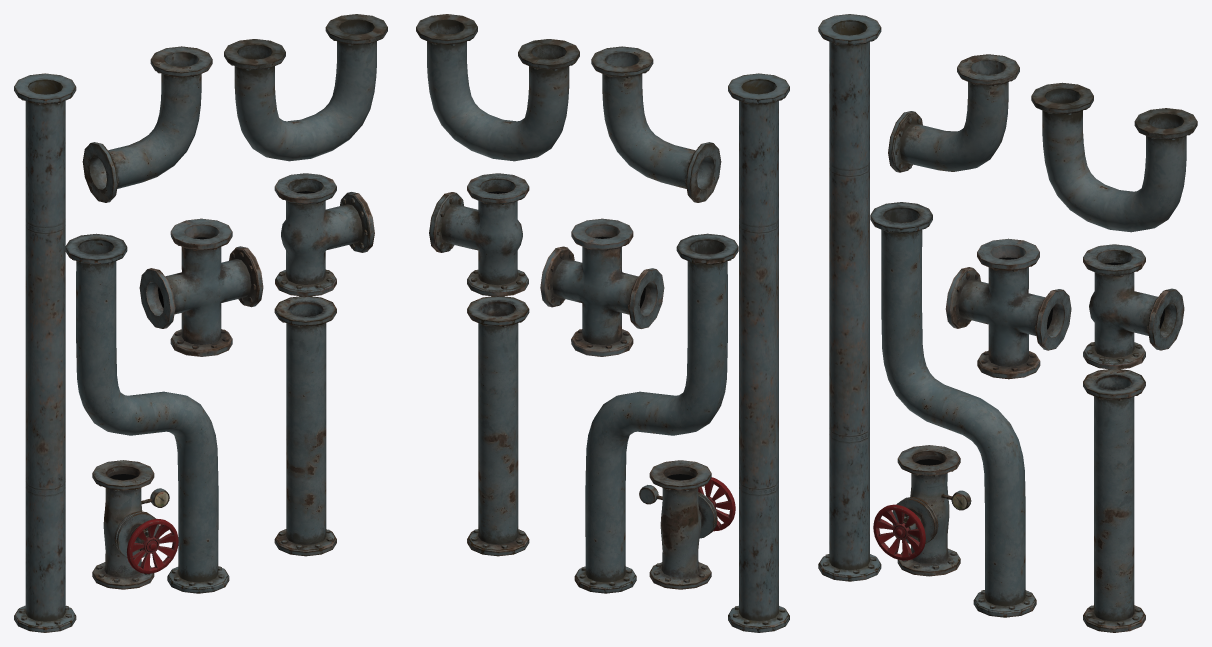
Rendered from modular_industrial_pipes_01.glb.
3 views of the same model, side by side, from view 1: azimuth 30°, elevation 25°; view 2: azimuth 150°, elevation 25°; view 3: azimuth 330°, elevation 25° (orthographic).
Visible parts, largest first — view 1: modular_industrial_pipes_01_pipe02, modular_industrial_pipes_01_pipe03, modular_industrial_pipes_01_pipe05, modular_industrial_pipes_01_pipe01, modular_industrial_pipes_01_pipe07, modular_industrial_pipes_01_pipe04, modular_industrial_pipes_01_pipe06, modular_industrial_pipes_01_pipe08; view 2: modular_industrial_pipes_01_pipe02, modular_industrial_pipes_01_pipe03, modular_industrial_pipes_01_pipe05, modular_industrial_pipes_01_pipe01, modular_industrial_pipes_01_pipe07, modular_industrial_pipes_01_pipe04, modular_industrial_pipes_01_pipe06, modular_industrial_pipes_01_pipe08; view 3: modular_industrial_pipes_01_pipe02, modular_industrial_pipes_01_pipe03, modular_industrial_pipes_01_pipe05, modular_industrial_pipes_01_pipe01, modular_industrial_pipes_01_pipe07, modular_industrial_pipes_01_pipe06, modular_industrial_pipes_01_pipe04, modular_industrial_pipes_01_pipe08.
Part boxes in pixels (x1,y1,x2,y2): modular_industrial_pipes_01_pipe02: (14,73,76,632); modular_industrial_pipes_01_pipe03: (65,233,229,593); modular_industrial_pipes_01_pipe05: (224,14,387,161); modular_industrial_pipes_01_pipe01: (274,296,336,556); modular_industrial_pipes_01_pipe07: (139,218,263,356); modular_industrial_pipes_01_pipe04: (82,46,212,202); modular_industrial_pipes_01_pipe06: (274,173,374,296); modular_industrial_pipes_01_pipe08: (92,460,178,589); modular_industrial_pipes_01_pipe02: (728,73,789,632); modular_industrial_pipes_01_pipe03: (574,233,738,593); modular_industrial_pipes_01_pipe05: (416,14,579,161); modular_industrial_pipes_01_pipe01: (467,296,529,556); modular_industrial_pipes_01_pipe07: (540,218,664,356); modular_industrial_pipes_01_pipe04: (591,46,721,202); modular_industrial_pipes_01_pipe06: (429,173,529,296); modular_industrial_pipes_01_pipe08: (639,460,735,589); modular_industrial_pipes_01_pipe02: (818,14,881,581); modular_industrial_pipes_01_pipe03: (870,202,1036,617); modular_industrial_pipes_01_pipe05: (1031,82,1197,232); modular_industrial_pipes_01_pipe01: (1083,369,1145,632); modular_industrial_pipes_01_pipe07: (945,238,1071,379); modular_industrial_pipes_01_pipe06: (1083,244,1184,369); modular_industrial_pipes_01_pipe04: (888,54,1019,172); modular_industrial_pipes_01_pipe08: (873,445,971,576).
Size of the model in its own units: 1.4 by 1.95 by 0.3076.
2 materials, 2 textured.
